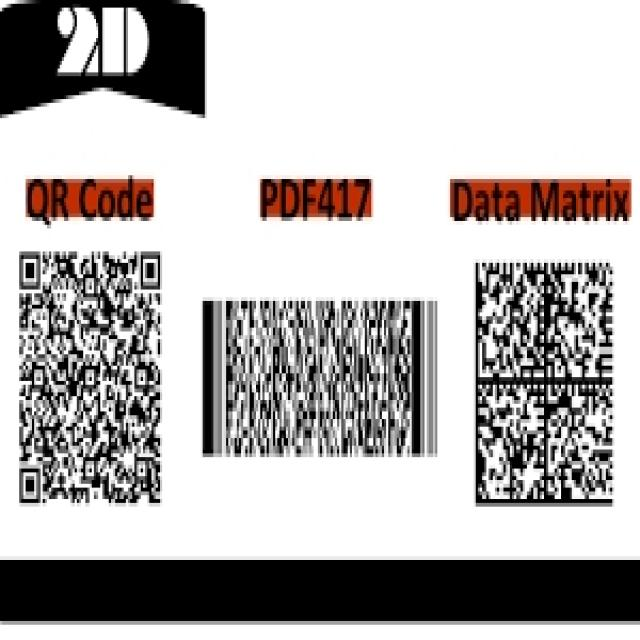datamatrix: (469, 251, 621, 522)
